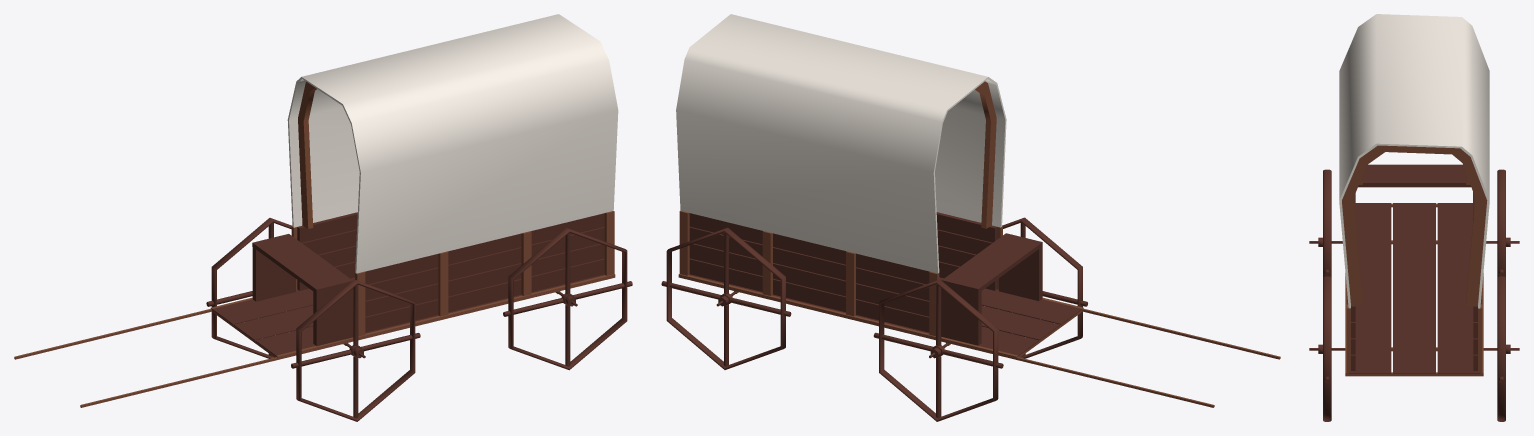
File: Carts and Wagons(1).glb
3 views of the same model, side by side, from view 1: azimuth 30°, elevation 25°; view 2: azimuth 150°, elevation 25°; view 3: azimuth 270°, elevation 25° (orthographic). The views are drawn at different scales.
Visible parts, largest first — view 1: Root; view 2: Root; view 3: Root.
Boxes of the visible parts, x1=… form: Root: x1=14, y1=14, x2=632, y2=421; Root: x1=661, y1=14, x2=1280, y2=421; Root: x1=1309, y1=14, x2=1519, y2=421.
Bounding box in the file's own units: 5.41 × 2.84 × 1.76.
